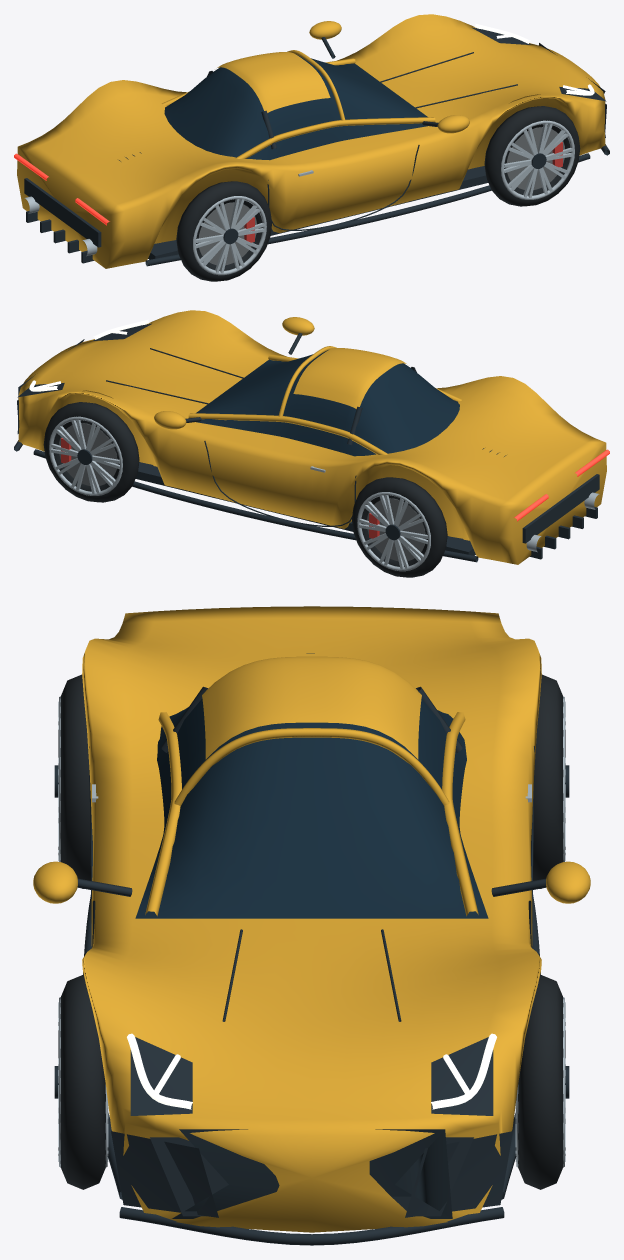
File: car12.glb
3 renders of one model, top to bottom at view 1: azimuth 30°, elevation 25°; view 2: azimuth 150°, elevation 25°; view 3: azimuth 270°, elevation 25°, orthographic. The views are drawn at different scales.
Visible parts, largest first — view 1: continuous-sculpted-body, CAR12, curved-windows, roof-panel; view 2: continuous-sculpted-body, CAR12, curved-windows, roof-panel; view 3: continuous-sculpted-body, CAR12, curved-windows, roof-panel.
Part boxes in pixels (x1=…): continuous-sculpted-body: x1=17, y1=14, x2=605, y2=268; CAR12: x1=14, y1=21, x2=609, y2=281; curved-windows: x1=164, y1=54, x2=427, y2=160; roof-panel: x1=217, y1=52, x2=330, y2=112; continuous-sculpted-body: x1=18, y1=310, x2=606, y2=564; CAR12: x1=14, y1=317, x2=609, y2=577; curved-windows: x1=196, y1=350, x2=459, y2=456; roof-panel: x1=293, y1=348, x2=406, y2=408; continuous-sculpted-body: x1=82, y1=606, x2=541, y2=1232; CAR12: x1=33, y1=653, x2=590, y2=1245; curved-windows: x1=135, y1=698, x2=488, y2=918; roof-panel: x1=202, y1=656, x2=421, y2=759.
Bounding box in the file's own units: 4.86 × 1.32 × 2.22.
